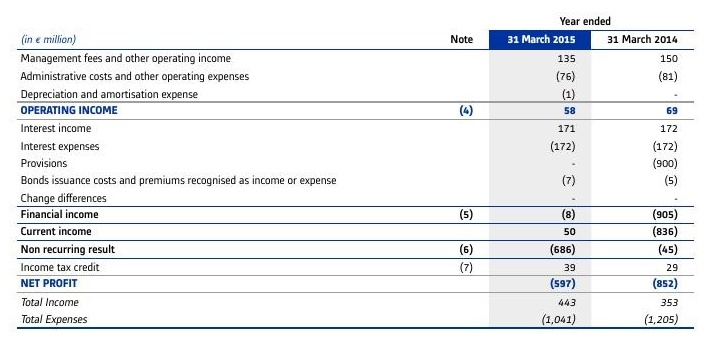table: (0, 0, 707, 348)
